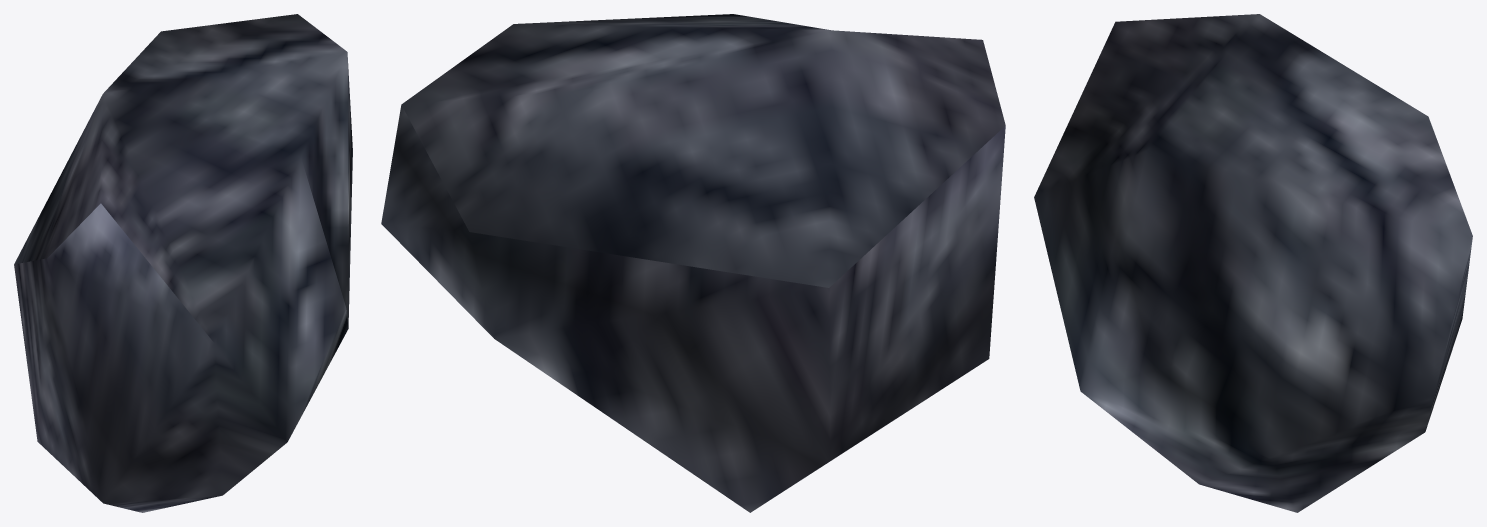
File: nar_condra_7_stone_1.glb
3 views of the same model, side by side, from view 1: azimuth 30°, elevation 25°; view 2: azimuth 150°, elevation 25°; view 3: azimuth 270°, elevation 25° (orthographic). The views are drawn at different scales.
Parts seen in each view (by area): view 1: model_nar_condra_7_stone_1; view 2: model_nar_condra_7_stone_1; view 3: model_nar_condra_7_stone_1.
Boxes of the visible parts, x1=… form: model_nar_condra_7_stone_1: x1=14, y1=14, x2=352, y2=512; model_nar_condra_7_stone_1: x1=381, y1=14, x2=1005, y2=512; model_nar_condra_7_stone_1: x1=1034, y1=14, x2=1472, y2=512.
Size of the model in its own units: 0.3095 by 0.2993 by 0.2536.
Materials: 1 (1 with a texture image).
